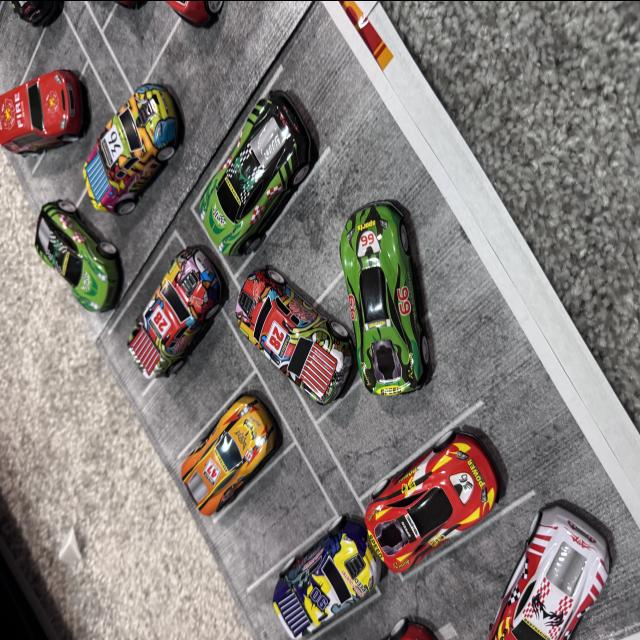Car: (117, 192, 246, 396), (164, 381, 294, 578), (78, 35, 208, 228), (198, 84, 330, 266), (495, 451, 621, 640), (362, 413, 492, 580), (347, 206, 429, 422), (232, 279, 346, 403), (28, 196, 145, 310), (250, 528, 385, 622), (0, 46, 89, 178)
